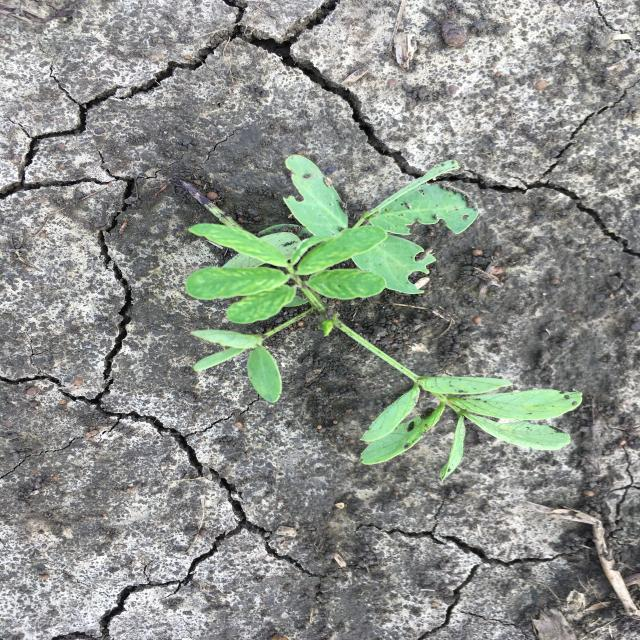Sicklepod: (180, 153, 585, 480)
